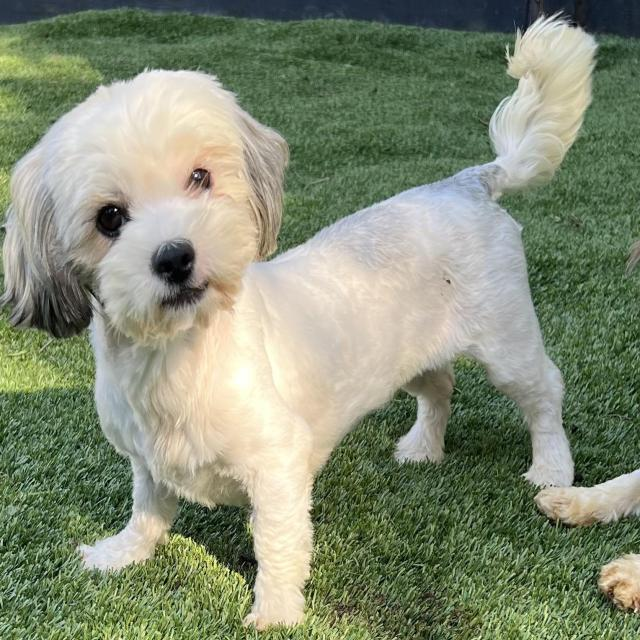shih_tzu_dog: (0, 54, 299, 376)
